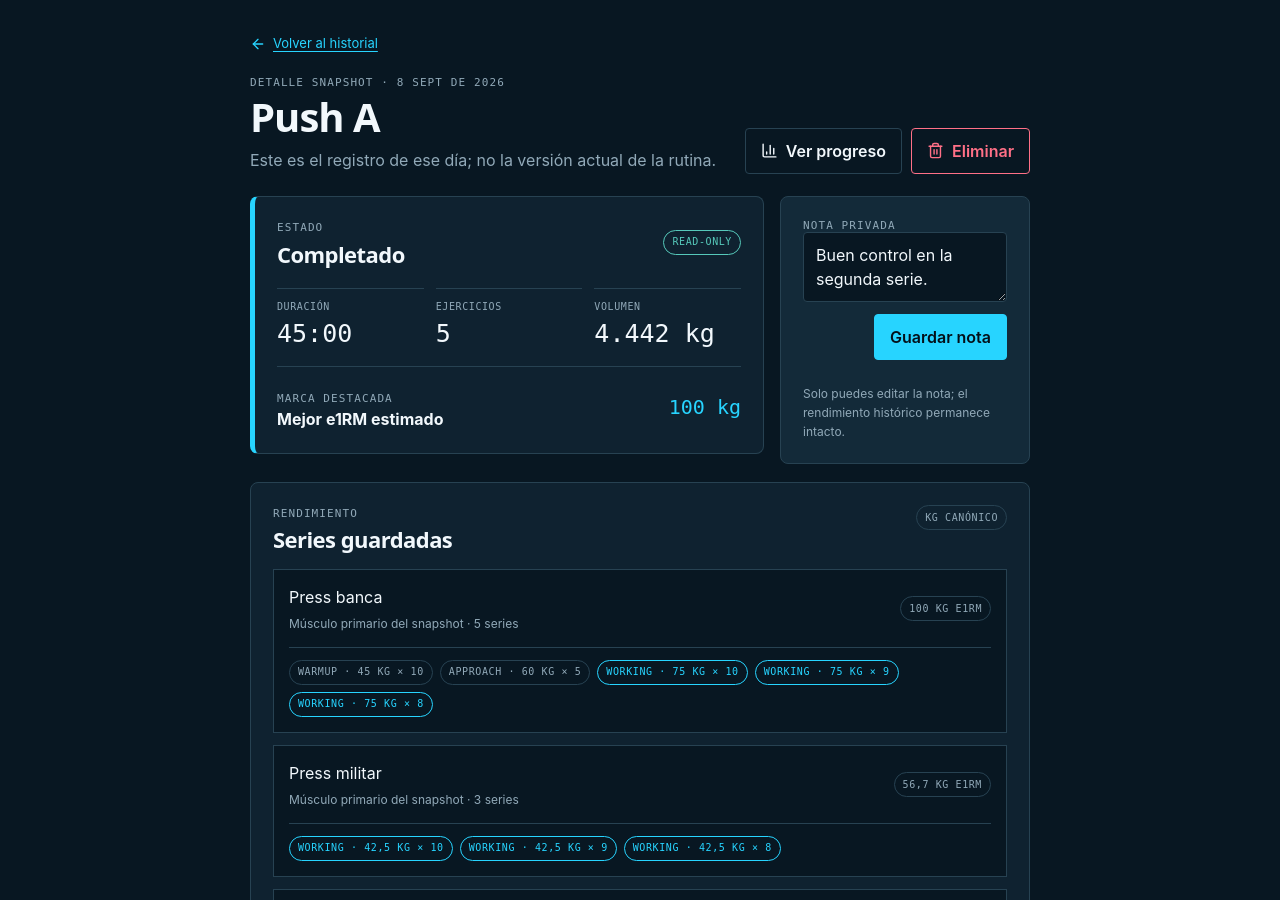
it: historial mock › edita la nota y elimina un workout con advertencia
Expected: the heading "Push A" is shown, [250,89,380,144]
Step 1. Replace the text in the text box named "Nota del workout" with "Sesión sólida" → (905, 267), box [803,232,1007,302]
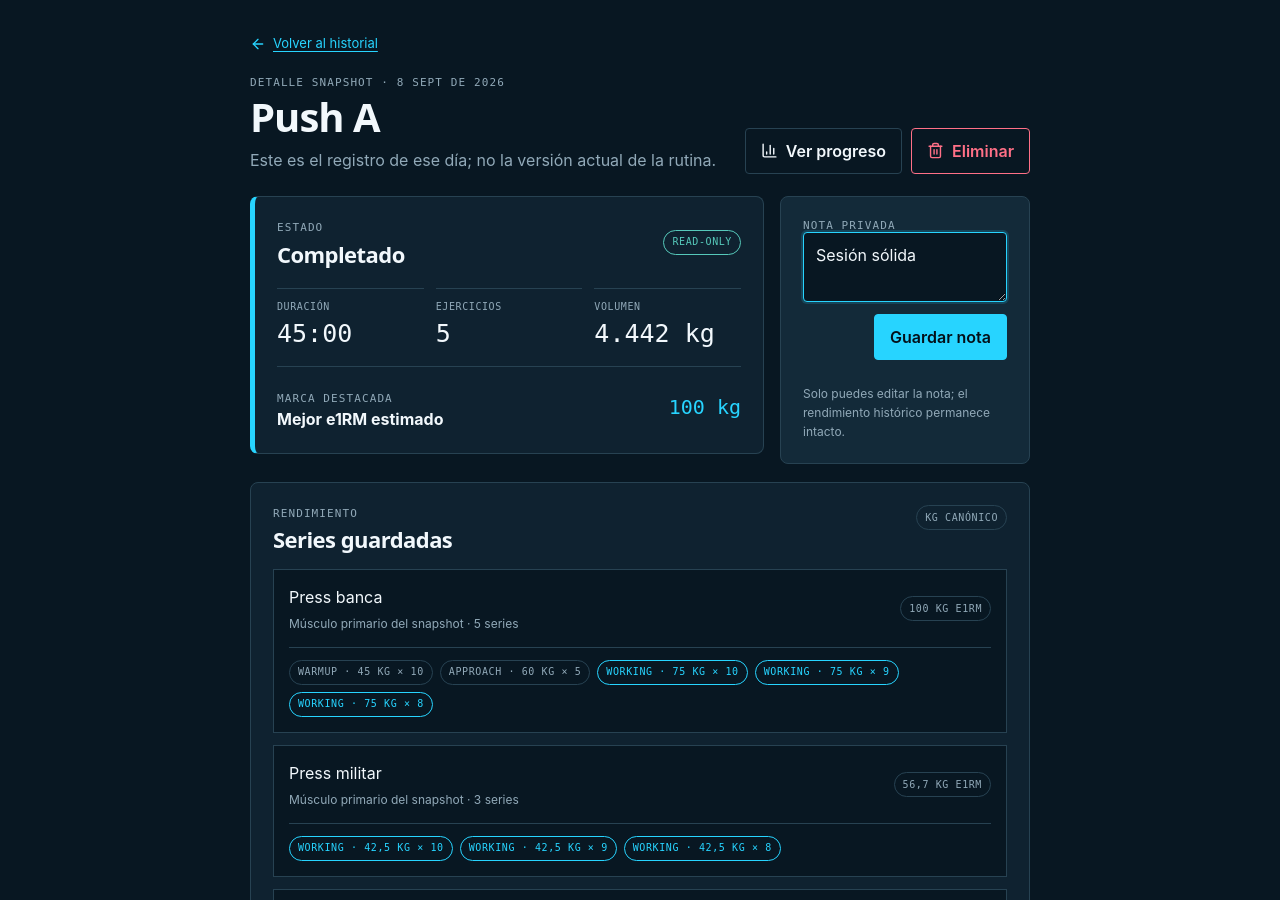
Step 2. Click the button "Guardar nota" → (940, 337), box [874,314,1007,360]
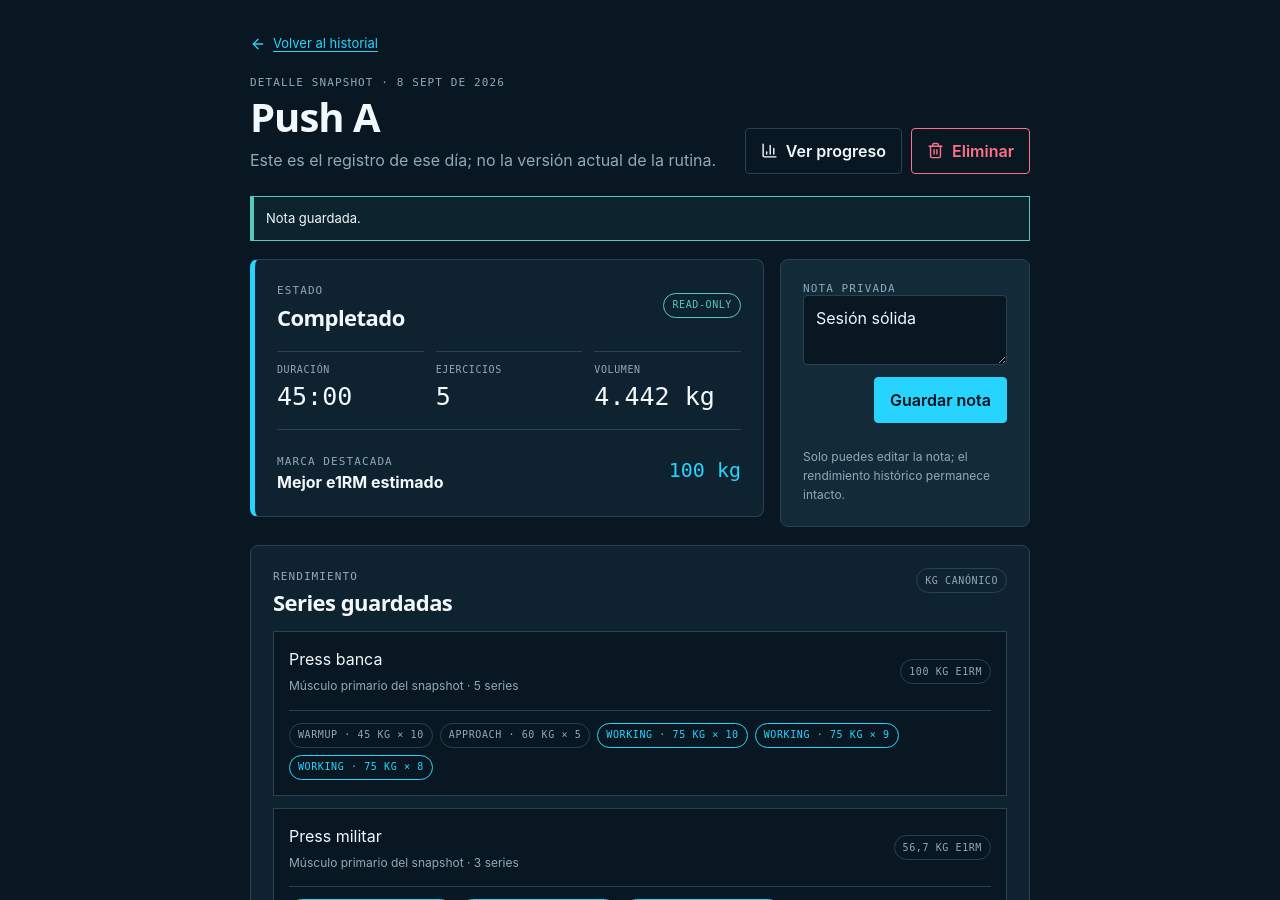
Result: the text "Nota guardada." is shown at [250,196,1030,240]
Step 3. Click the button "Eliminar" → (970, 151), box [911,128,1030,174]
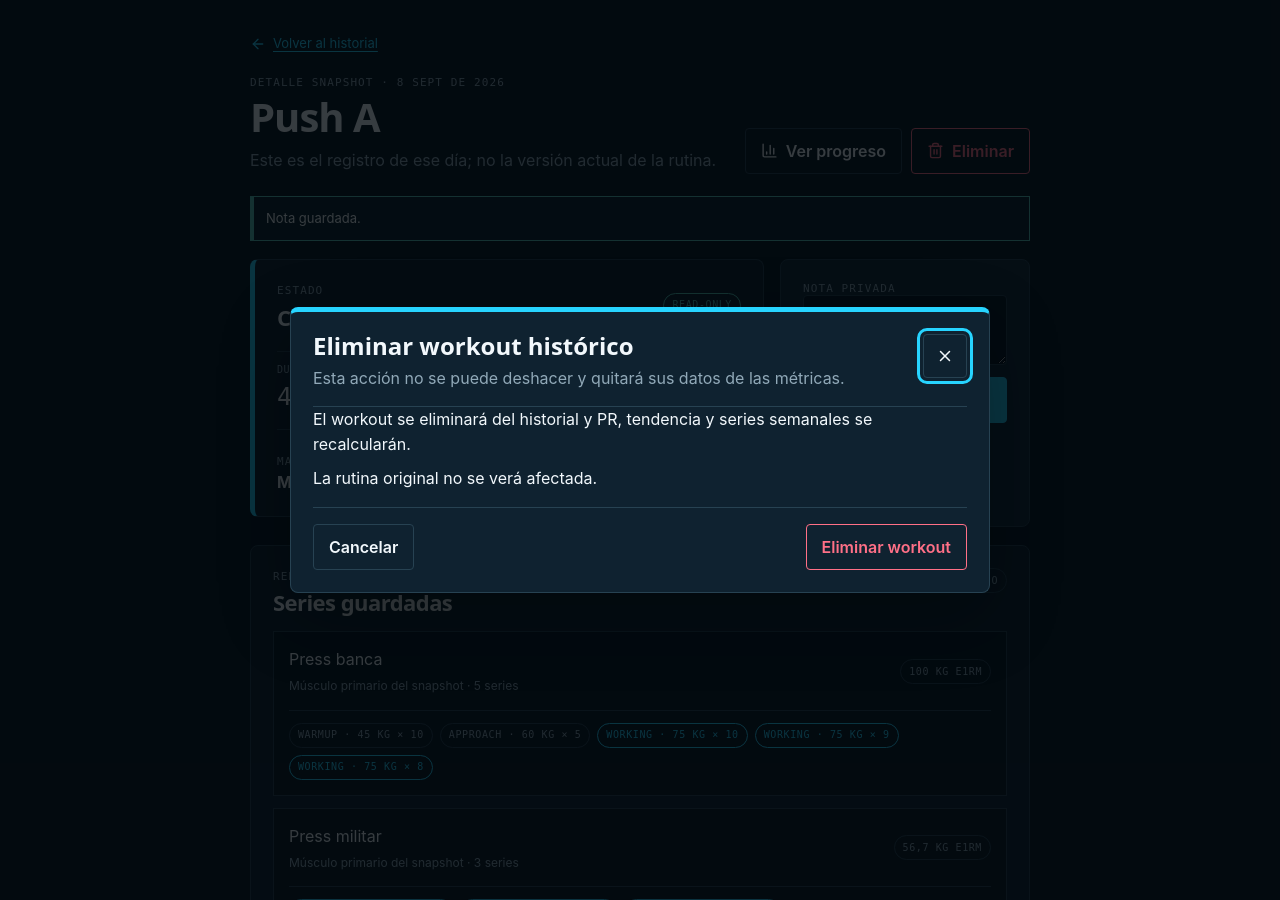
Result: the text "se recalcularán" is shown at [313,409,872,454]
Step 4. Click the button "Eliminar workout" → (886, 547), box [806,524,967,570]
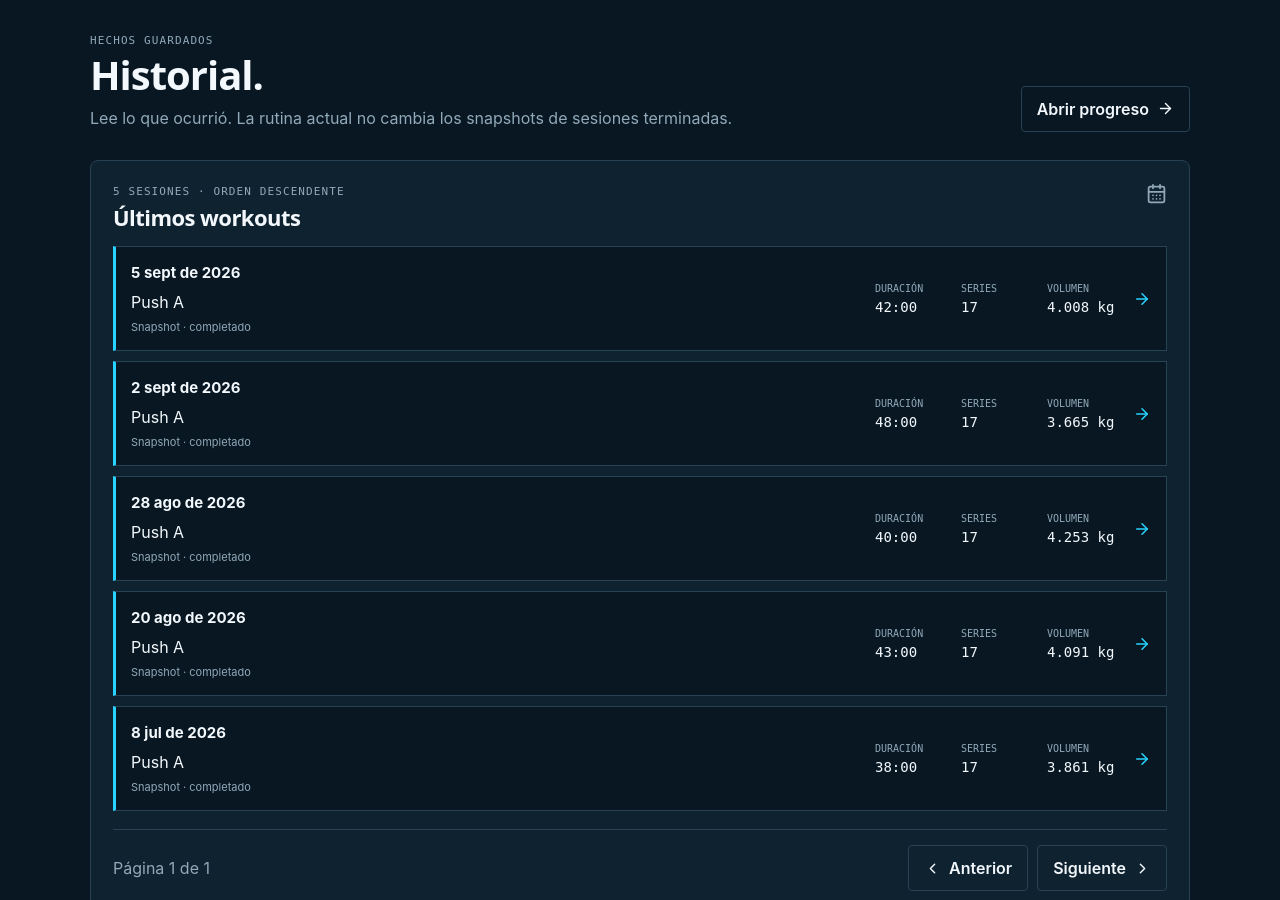
Result: the heading "Últimos workouts" is shown at [113,202,300,232]
Result: the text "5 sesiones · orden descendente" is shown at [113,183,345,201]
